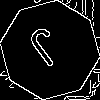J: (25, 25, 72, 76)
